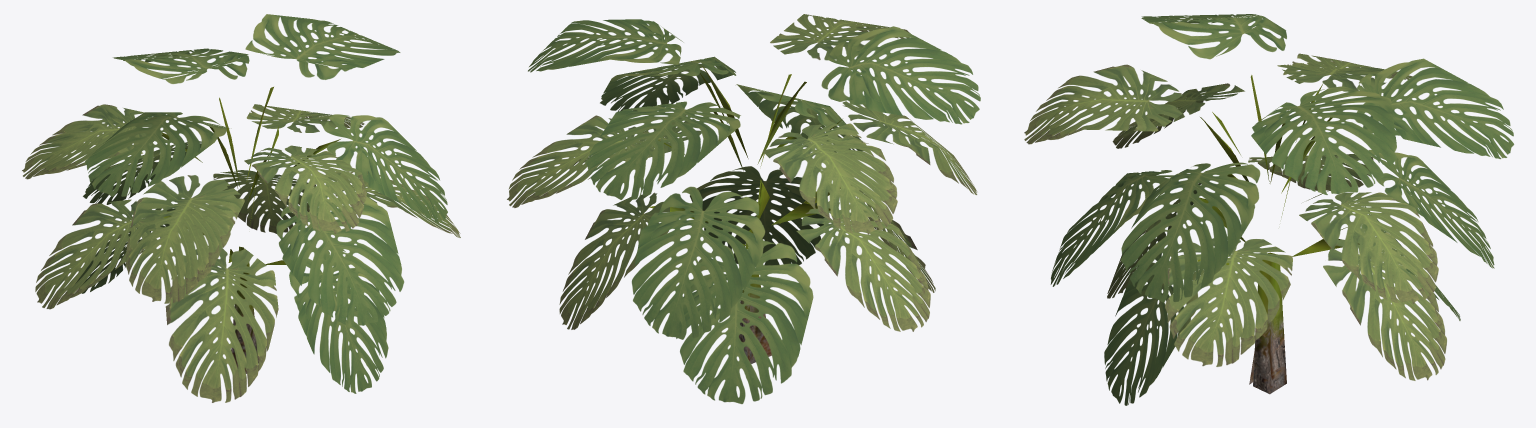
The model's file is Plantas.glb.
3 renders of one model, left to right at view 1: azimuth 30°, elevation 25°; view 2: azimuth 150°, elevation 25°; view 3: azimuth 270°, elevation 25°, orthographic. The views are drawn at different scales.
Parts seen in each view (by area): view 1: tree.001; view 2: tree.001; view 3: tree.001.
Boxes of the visible parts, x1,y1,x2,y2 form: tree.001: (22,14,460,402); tree.001: (507,14,980,404); tree.001: (1024,14,1514,405).
Bounding box in the file's own units: 0.5694 × 0.4208 × 0.5845.
Materials: 2 (2 with a texture image).
